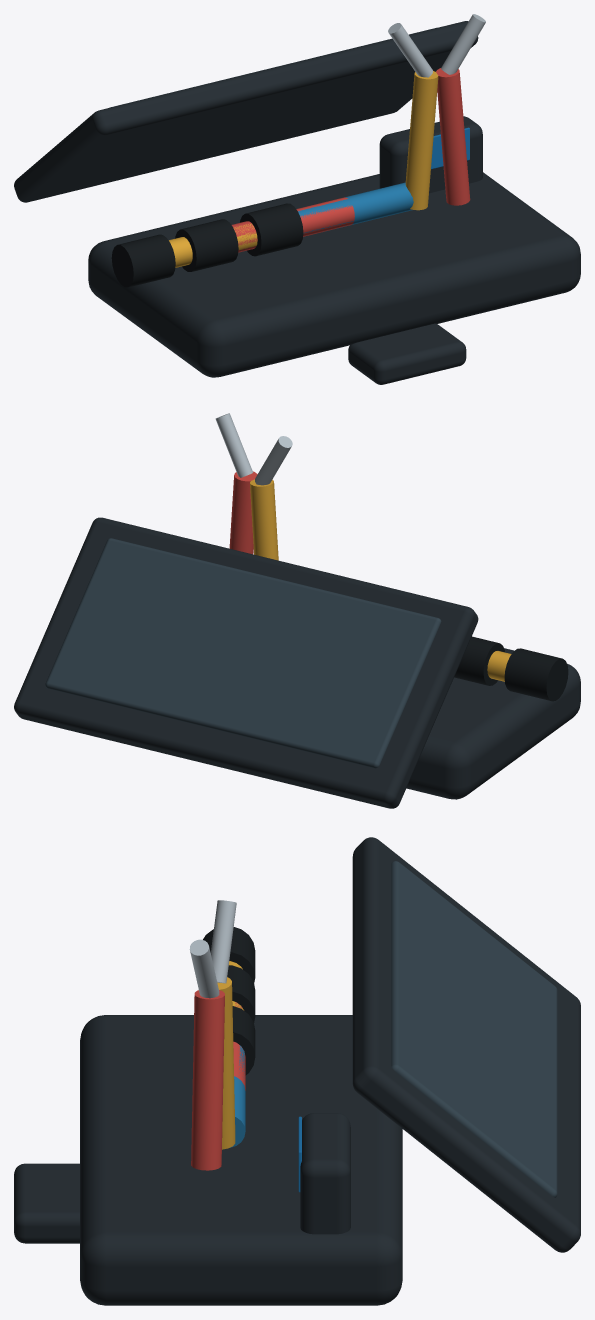
Rendered from technician-toolkit.glb.
The picture shows the model from 3 angles, top to bottom: view 1: azimuth 30°, elevation 25°; view 2: azimuth 150°, elevation 25°; view 3: azimuth 270°, elevation 25°; orthographic projection. The views are drawn at different scales.
Visible parts, largest first — view 1: Rugged tool case base, Open case lid, Premium open technician toolkit, Tool handle (×3), Carry handle, Insulated screwdriver (×3), Digital tester; view 2: Foam tool organizer, Open case lid, Rugged tool case base, Premium open technician toolkit, Tool handle (×2), Insulated screwdriver; view 3: Rugged tool case base, Foam tool organizer, Open case lid, Premium open technician toolkit, Digital tester, Carry handle, Tool handle (×3), Insulated screwdriver.
Part boxes in pixels (bbox=[...]): Rugged tool case base: bbox=[88, 172, 580, 377]; Open case lid: bbox=[14, 21, 478, 202]; Premium open technician toolkit: bbox=[388, 14, 485, 210]; Tool handle (×3): bbox=[111, 203, 303, 287]; Carry handle: bbox=[348, 323, 466, 384]; Insulated screwdriver (×3): bbox=[169, 182, 413, 267]; Digital tester: bbox=[379, 116, 482, 193]; Foam tool organizer: bbox=[45, 538, 441, 768]; Open case lid: bbox=[14, 517, 478, 808]; Rugged tool case base: bbox=[406, 648, 580, 799]; Premium open technician toolkit: bbox=[215, 413, 292, 560]; Tool handle (×2): bbox=[454, 636, 568, 701]; Insulated screwdriver: bbox=[487, 651, 511, 681]; Rugged tool case base: bbox=[80, 1015, 402, 1305]; Foam tool organizer: bbox=[391, 861, 557, 1197]; Open case lid: bbox=[352, 837, 580, 1252]; Premium open technician toolkit: bbox=[189, 900, 301, 1192]; Digital tester: bbox=[300, 1113, 350, 1234]; Carry handle: bbox=[14, 1163, 79, 1243]; Tool handle (×3): bbox=[203, 927, 255, 1075]; Insulated screwdriver: bbox=[230, 1045, 245, 1147].
Size of the model in its own units: 2.14 by 1.4 by 2.02.
